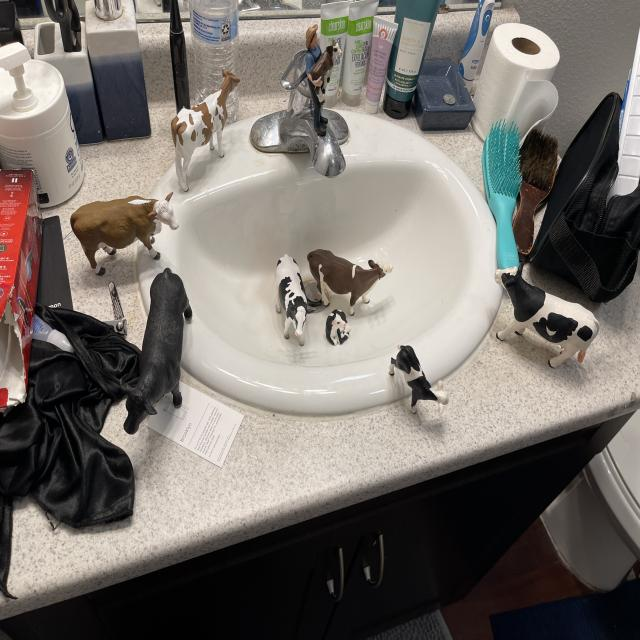cow: (472, 257, 610, 379), (122, 265, 198, 440), (158, 63, 241, 198), (68, 189, 184, 272), (297, 246, 393, 321), (378, 336, 455, 426), (274, 254, 308, 346), (300, 39, 347, 97), (324, 308, 352, 346)
person: (305, 24, 322, 73)
